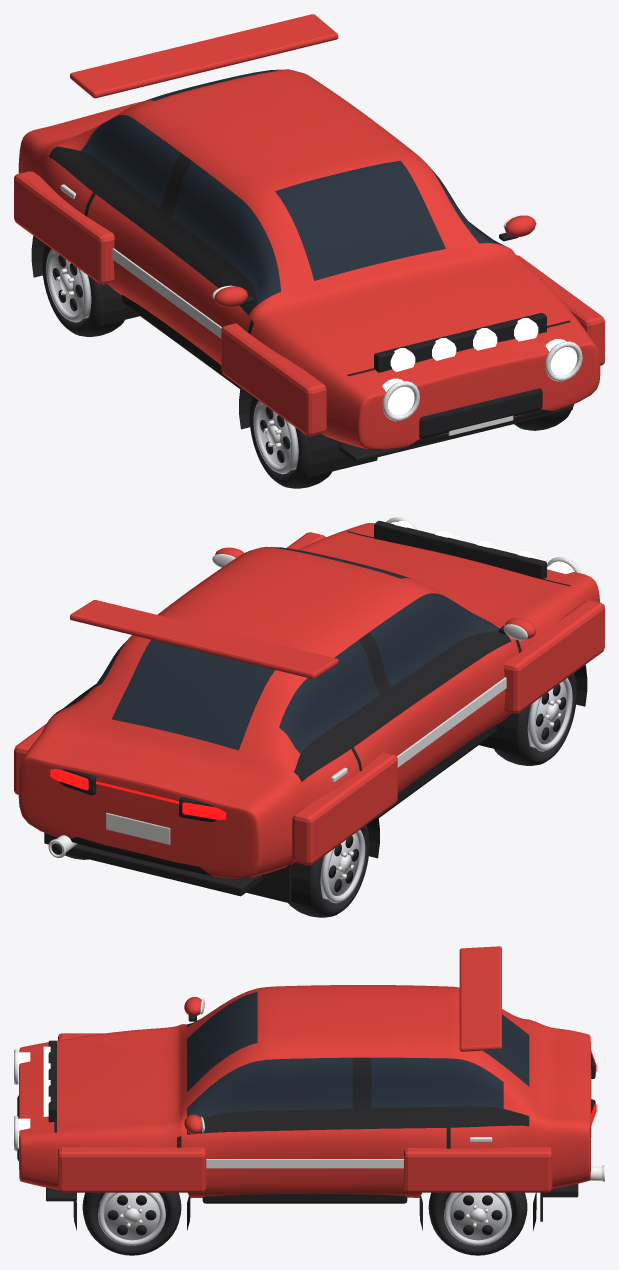
Rendered from gruppo_mid.glb.
3 renders of one model, top to bottom at view 1: azimuth 30°, elevation 25°; view 2: azimuth 150°, elevation 25°; view 3: azimuth 270°, elevation 25°, orthographic. The views are drawn at different scales.
Visible parts, largest first — view 1: body, wheel_fr, wheel_rr; view 2: body, wheel_fr, wheel_rr; view 3: body, wheel_rl, wheel_fl.
Part boxes in pixels (x1,y1,x2,y2): body: (14, 14, 604, 477); wheel_fr: (249, 396, 331, 488); wheel_rr: (42, 244, 124, 336); body: (14, 517, 604, 906); wheel_fr: (494, 673, 576, 765); wheel_rr: (288, 825, 369, 917); body: (14, 946, 604, 1230); wheel_rl: (428, 1192, 527, 1255); wheel_fl: (82, 1192, 181, 1255).
Size of the model in its own units: 2.18 by 1.63 by 4.18.
